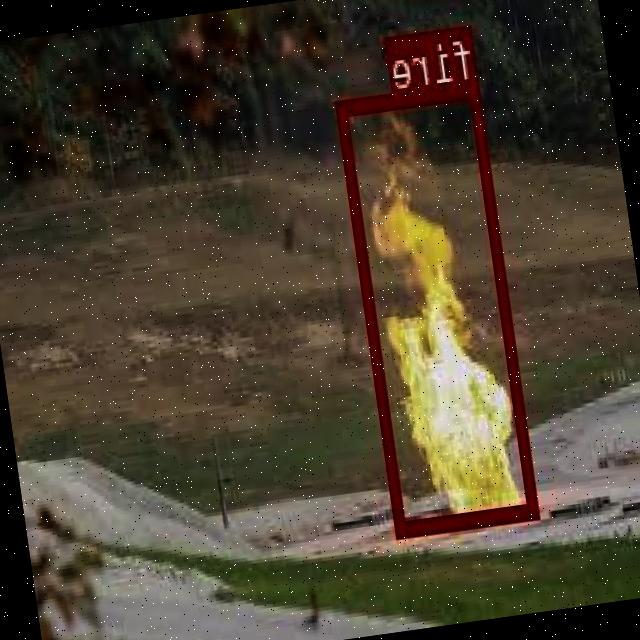fire: (337, 80, 542, 536)
